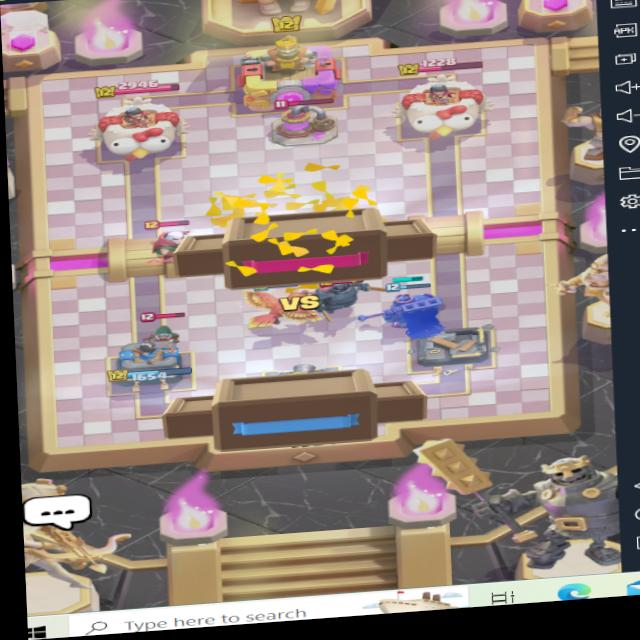bandit: (123, 304, 196, 348)
elixir-collector: (265, 89, 338, 154)
magic-archer: (133, 205, 204, 271)
pekka: (300, 277, 372, 317)
